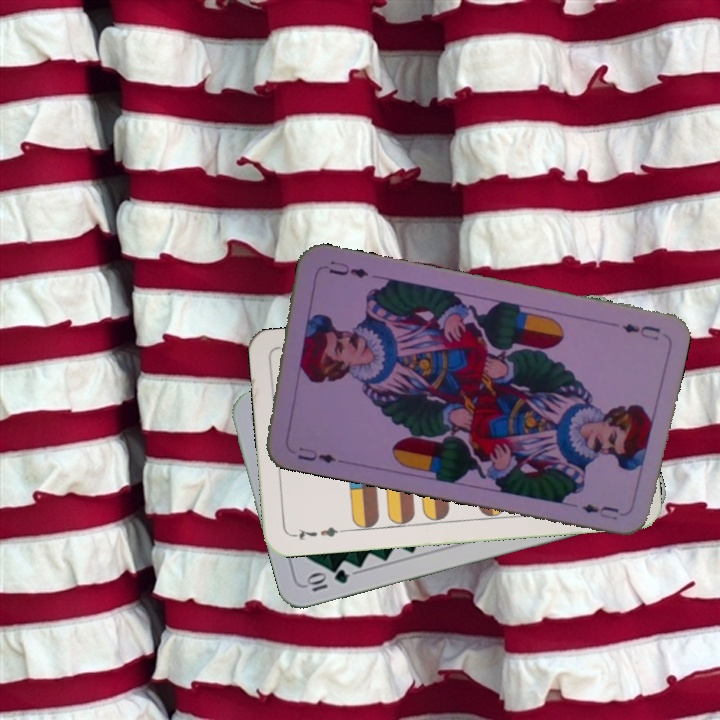E7: (287, 523, 347, 543)
EU: (294, 443, 339, 467), (618, 319, 663, 343)
G10: (302, 565, 352, 595)
